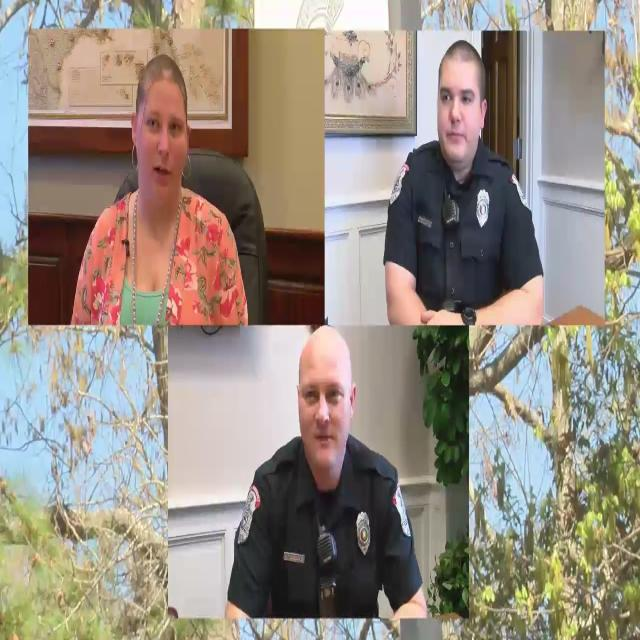police: (205, 321, 425, 619), (384, 34, 533, 340)
